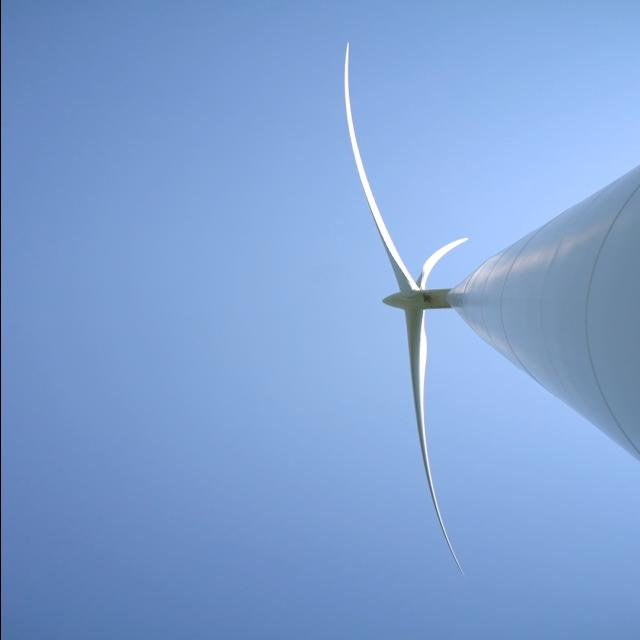blade 1: (419, 205, 473, 270)
blade 2: (329, 59, 398, 238)
blade 3: (384, 349, 461, 543)
